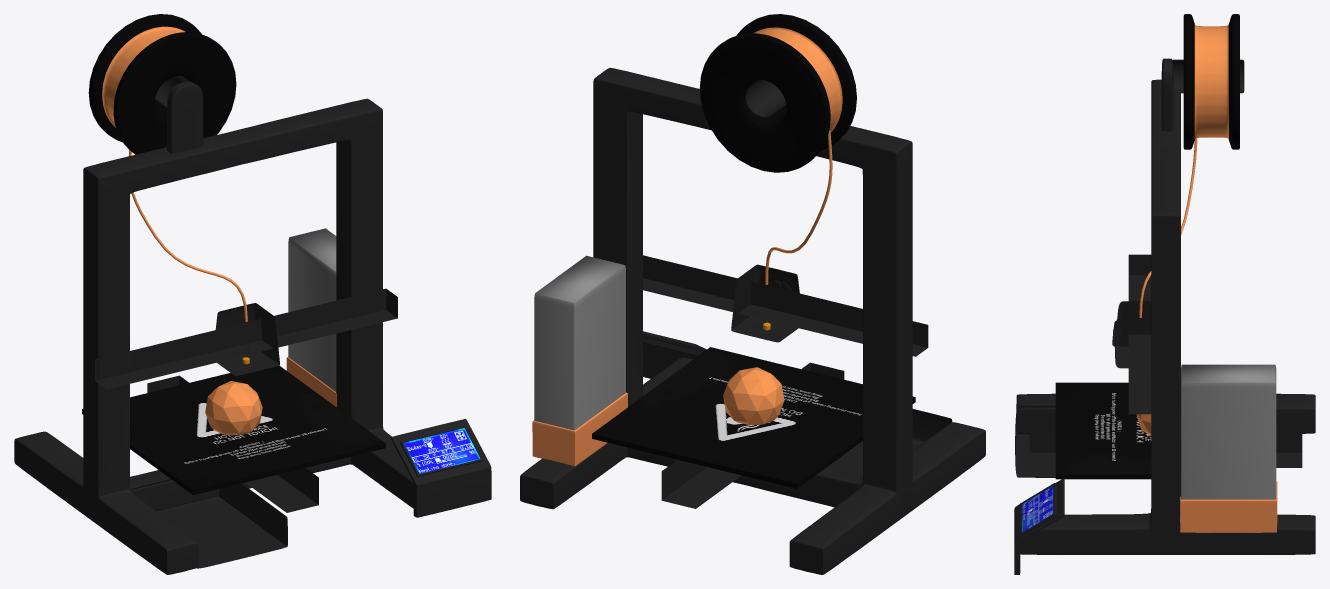
Rendered from 3dprinter.glb.
3 renders of one model, left to right at view 1: azimuth 30°, elevation 25°; view 2: azimuth 150°, elevation 25°; view 3: azimuth 270°, elevation 25°, orthographic. The views are drawn at different scales.
Parts seen in each view (by area): view 1: body, plate, body z mover; view 2: body, plate, body z mover; view 3: body, plate, body z mover.
Part boxes in pixels (bbox=[...]): body: bbox=[14, 14, 491, 574]; plate: bbox=[82, 365, 385, 495]; body z mover: bbox=[95, 288, 397, 389]; body: bbox=[520, 14, 985, 574]; plate: bbox=[592, 347, 915, 488]; body z mover: bbox=[643, 255, 928, 356]; body: bbox=[1014, 14, 1315, 574]; plate: bbox=[1055, 382, 1151, 479]; body z mover: bbox=[1112, 254, 1151, 414].
Size of the model in its own units: 1.93 by 2.58 by 1.58.
9 materials, 3 textured.
